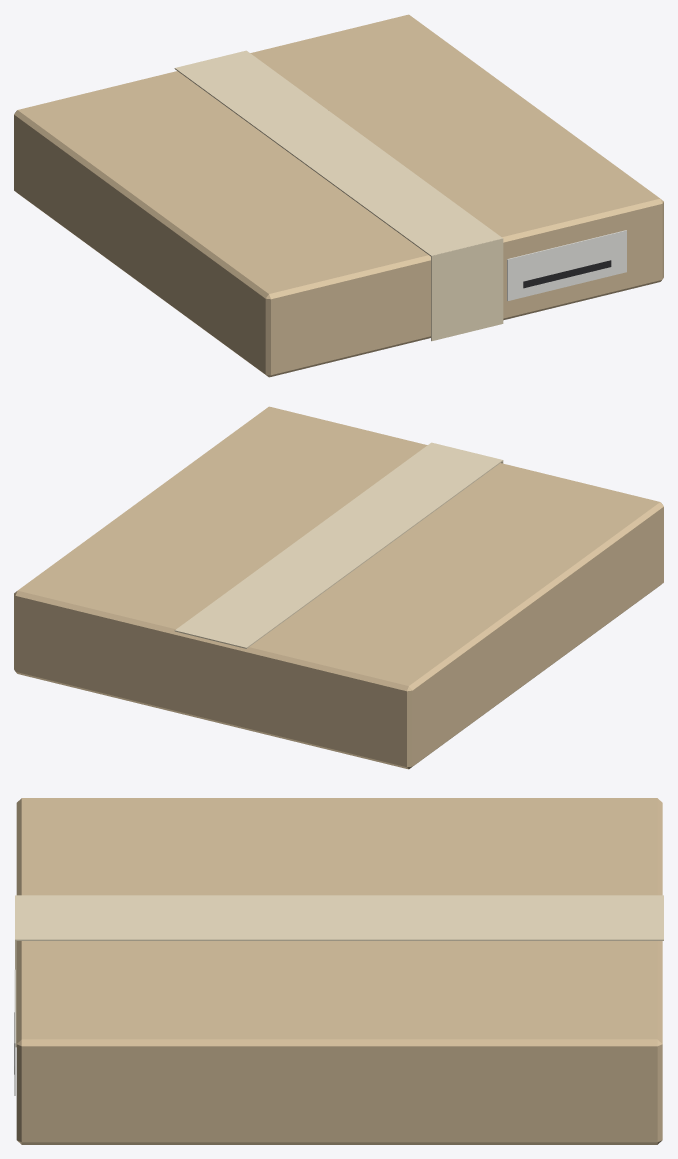
File: carton_1u.fbx
3 renders of one model, top to bottom at view 1: azimuth 30°, elevation 25°; view 2: azimuth 150°, elevation 25°; view 3: azimuth 270°, elevation 25°, orthographic. The views are drawn at different scales.
Visible parts, largest first — view 1: Carton; view 2: Carton; view 3: Carton.
Boxes of the visible parts, x1,y1,x2,y2 form: Carton: (14, 14, 663, 377); Carton: (14, 406, 663, 769); Carton: (14, 798, 663, 1144).
Bounding box in the file's own units: 0.45 × 0.0922 × 0.503.
